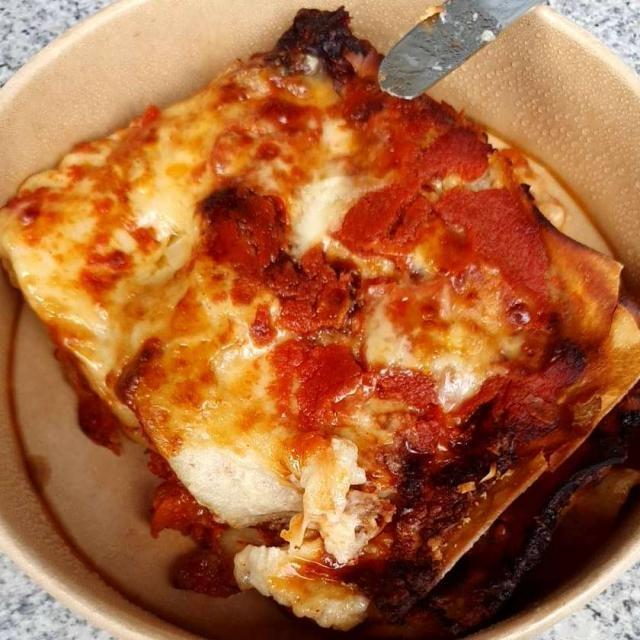lasagne: (16, 30, 627, 614)
